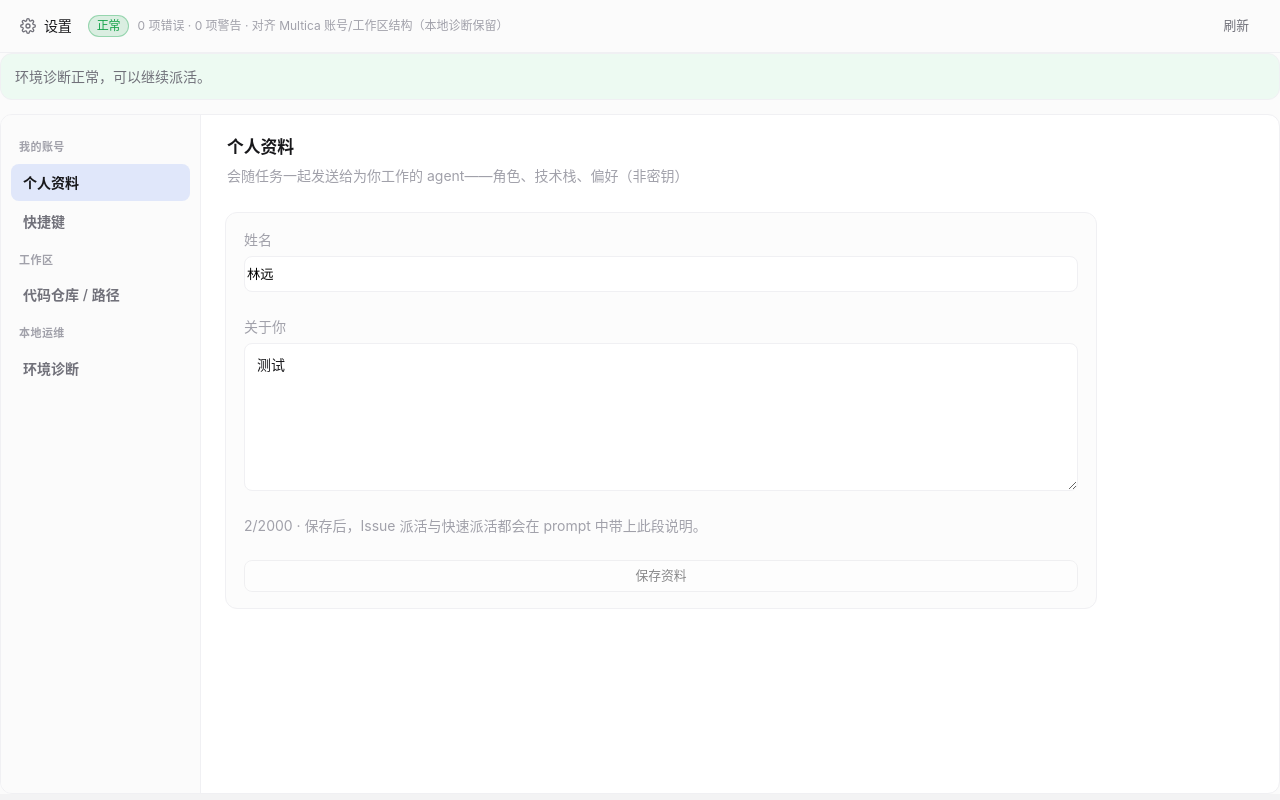
Test case: SettingsPage › 密钥安全检查默认不扫描、不回显密钥，并提供显式扫描入口
This screenshot has width=1280, height=800.
Click the button with test id "settings-nav-health".
click(100, 368)  # box [11,350,190,386]
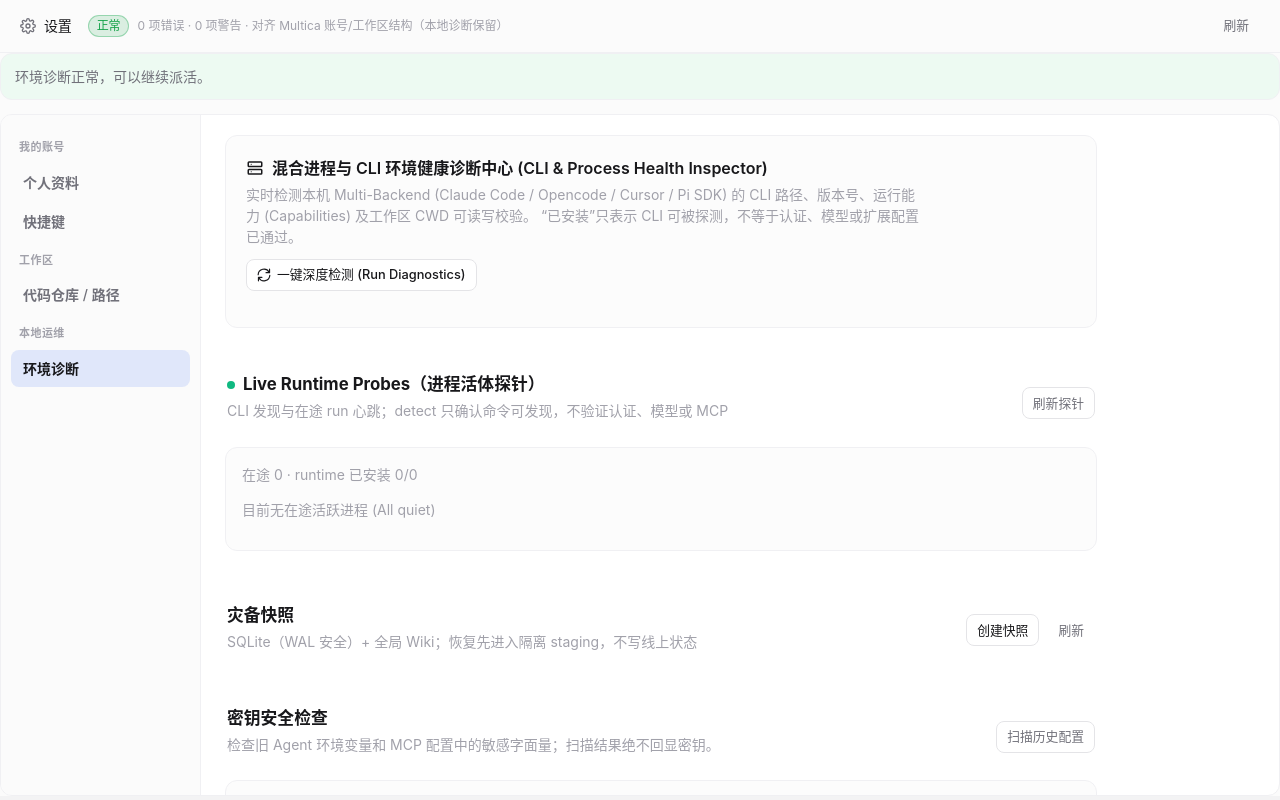
Expected: the element with test id "settings-secret-safety" shows "密钥安全检查", [227,708,328,728]
Expected: the button with test id "settings-secret-safety-scan" reads "扫描历史配置", [996,721,1095,753]
